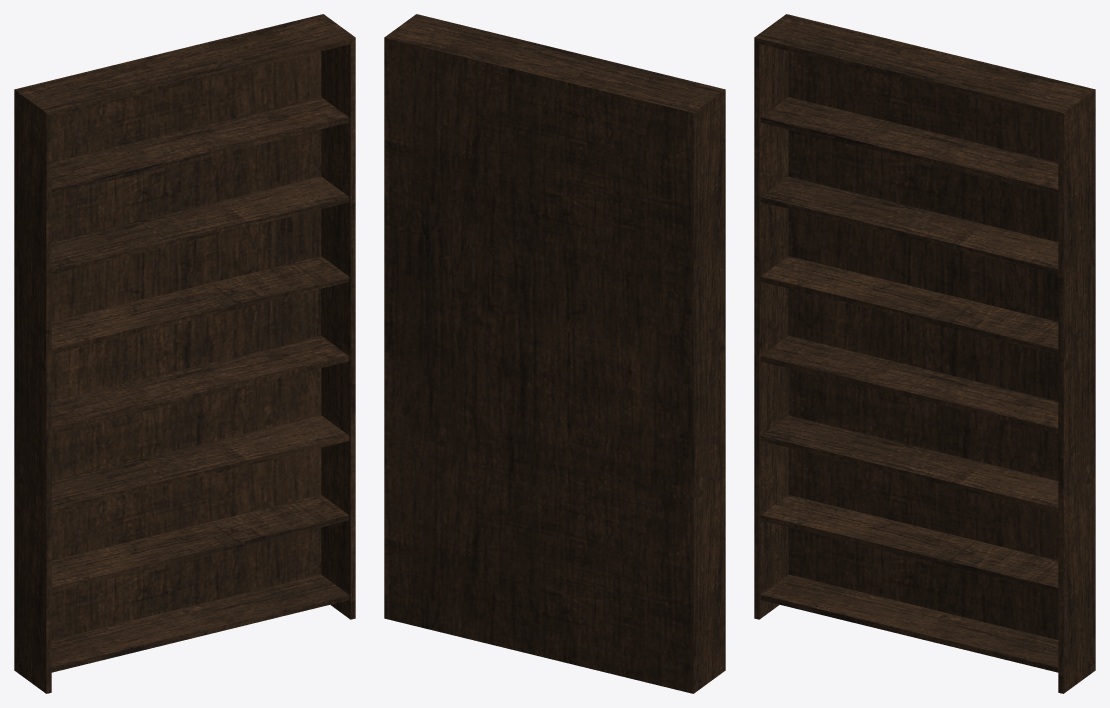
The model's file is shelf_mp_4_1.dae.
3 renders of one model, left to right at view 1: azimuth 30°, elevation 25°; view 2: azimuth 150°, elevation 25°; view 3: azimuth 330°, elevation 25°, orthographic.
Parts seen in each view (by area): view 1: shelf_mp_4_1; view 2: shelf_mp_4_1; view 3: shelf_mp_4_1.
Part boxes in pixels (bbox=[...]): shelf_mp_4_1: bbox=[14, 14, 355, 693]; shelf_mp_4_1: bbox=[384, 14, 725, 693]; shelf_mp_4_1: bbox=[754, 14, 1095, 693].
Bounding box in the file's own units: 1.22 × 0.22 × 2.19.
Materials: 1 (1 with a texture image).
